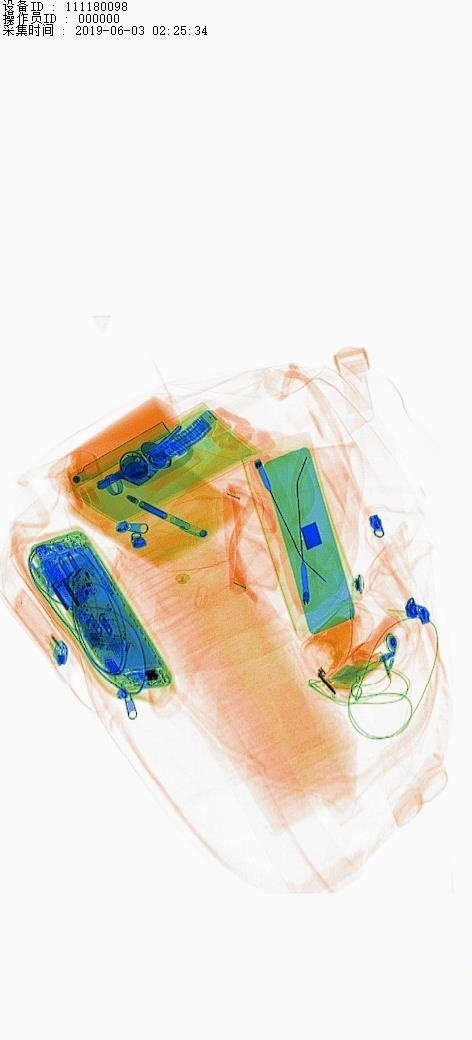NonmetallicFire: (11, 587, 83, 677)
